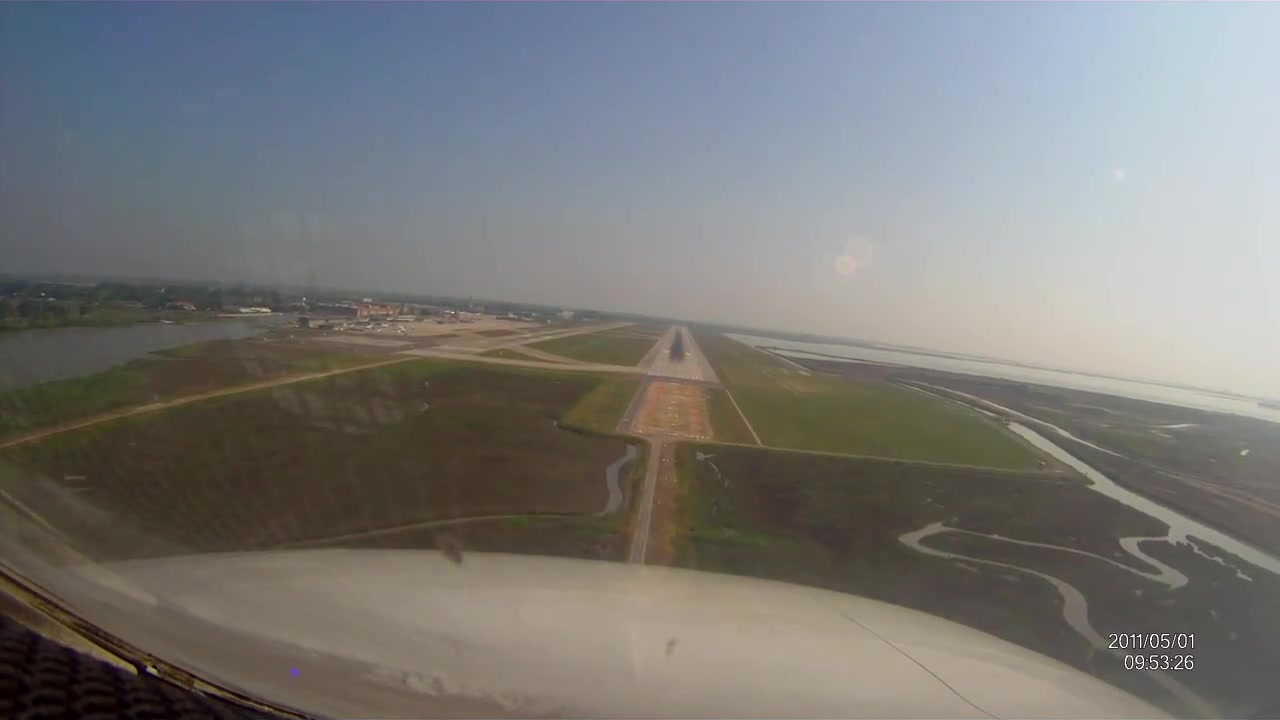runway: (647, 331, 707, 382)
